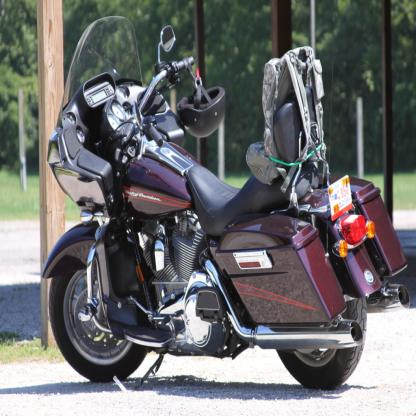Helmet: (177, 57, 227, 138)
